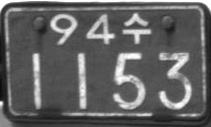1: (66, 53, 101, 111), (22, 53, 57, 109)
3: (158, 50, 192, 110)
4: (86, 13, 115, 44)
5: (111, 51, 146, 111)
9: (50, 12, 78, 45)
수: (122, 11, 151, 44)
